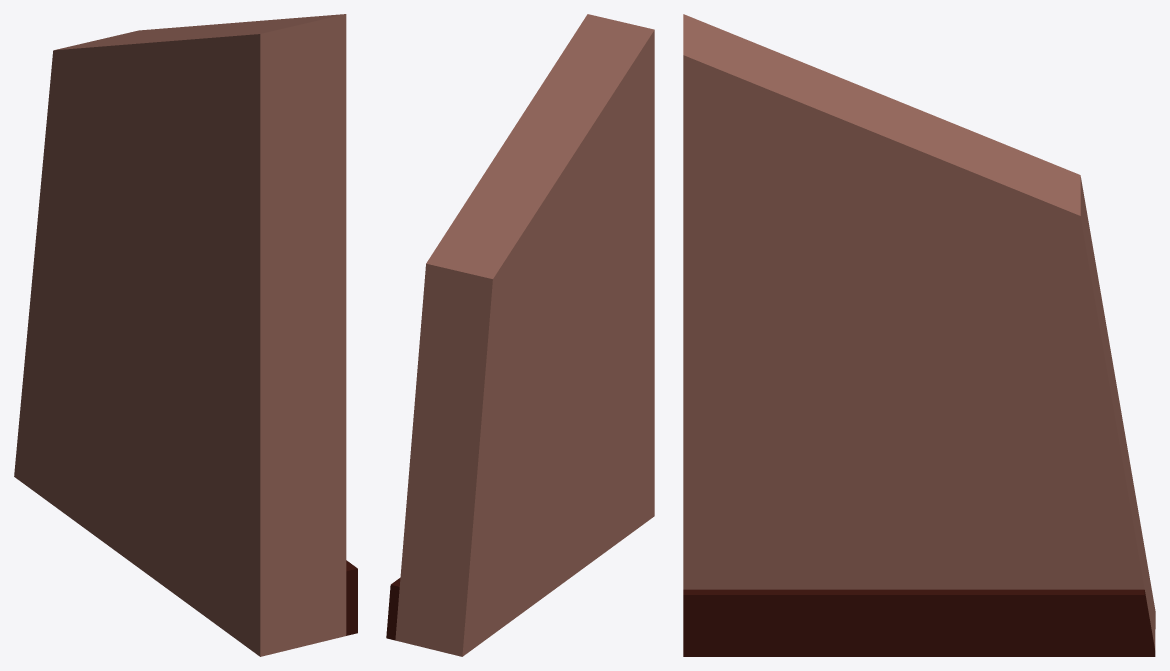
Rendered from T_MurDetruit_6.10.fbx.
3 renders of one model, left to right at view 1: azimuth 30°, elevation 25°; view 2: azimuth 150°, elevation 25°; view 3: azimuth 270°, elevation 25°, orthographic. The views are drawn at different scales.
Visible parts, largest first — view 1: T_MurDetruit_6.10; view 2: T_MurDetruit_6.10; view 3: T_MurDetruit_6.10.
Boxes of the visible parts, x1,y1,x2,y2 form: T_MurDetruit_6.10: (14,14,357,656); T_MurDetruit_6.10: (386,14,654,656); T_MurDetruit_6.10: (683,14,1155,656).
Bounding box in the file's own units: 15.31 × 93.42 × 66.93.
